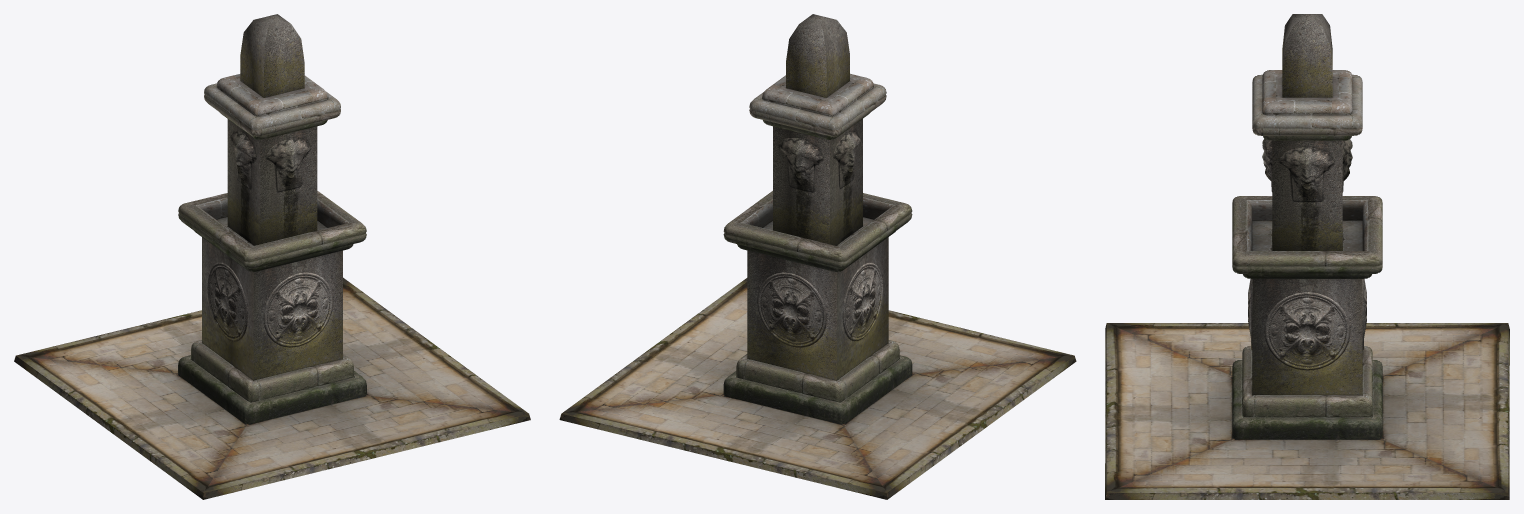
The model's file is fountain.FBX.
The picture shows the model from 3 angles, left to right: view 1: azimuth 30°, elevation 25°; view 2: azimuth 150°, elevation 25°; view 3: azimuth 270°, elevation 25°; orthographic projection. The views are drawn at different scales.
Visible parts, largest first — view 1: fountain; view 2: fountain; view 3: fountain.
Part boxes in pixels (<box>): fountain: <box>14,14,530,499</box>; fountain: <box>559,14,1076,499</box>; fountain: <box>1105,14,1509,499</box>.
Bounding box in the file's own units: 4.03 × 4.38 × 4.03.
